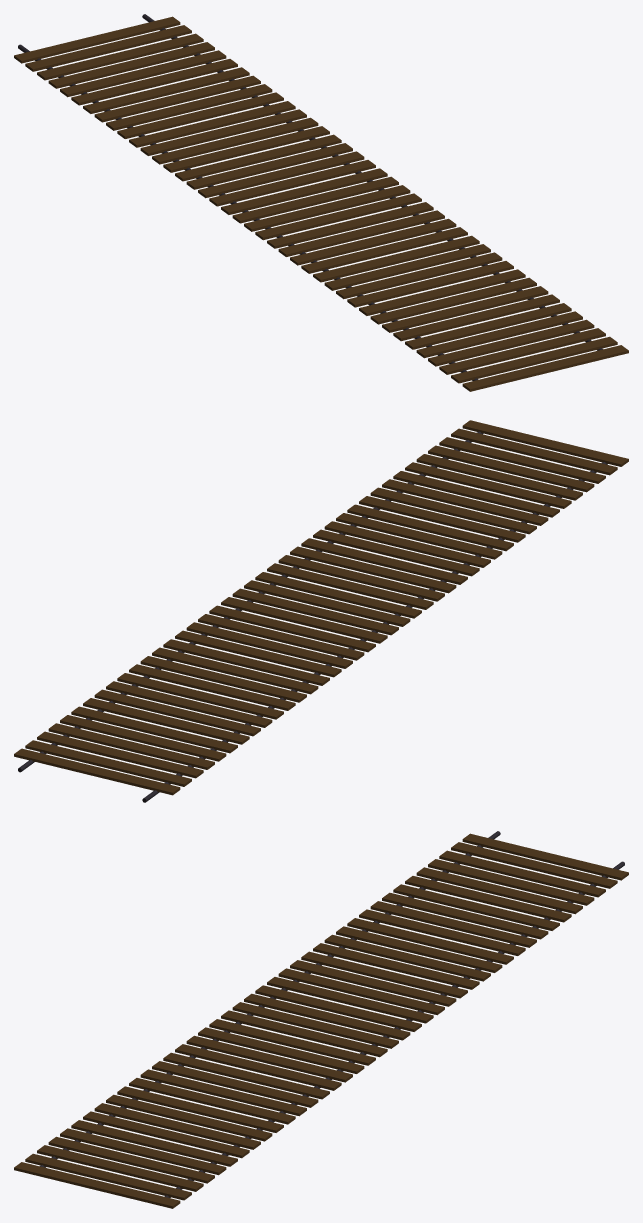
Rendered from CA_069_wooden_planks_var2.glb.
The picture shows the model from 3 angles, top to bottom: view 1: azimuth 30°, elevation 25°; view 2: azimuth 150°, elevation 25°; view 3: azimuth 330°, elevation 25°; orthographic projection.
Visible parts, largest first — view 1: support_bars; view 2: support_bars; view 3: support_bars.
Boxes of the visible parts, x1,y1,x2,y2 form: support_bars: (14, 14, 628, 391); support_bars: (14, 420, 628, 802); support_bars: (14, 831, 628, 1208).
Size of the model in its own units: 3 by 0.1041 by 15.29.
